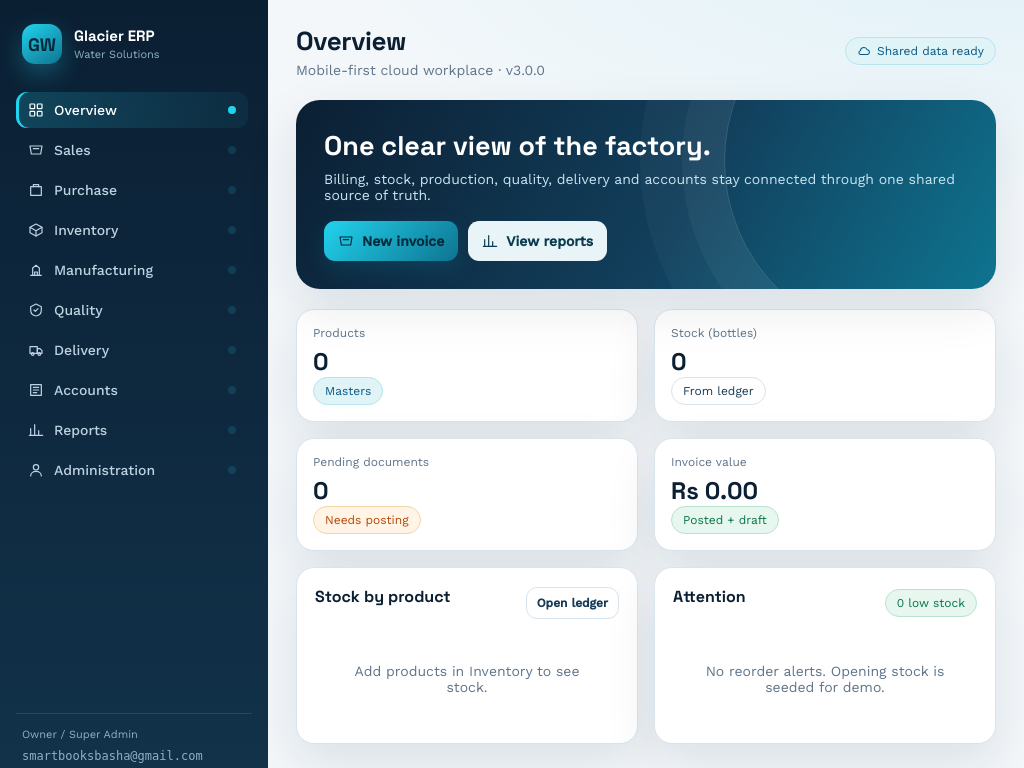
Scenario: ERP UI smoke › navigates Sales -> Invoices and opens the add form
Click the button "Sales" at [132, 150], box [16, 132, 248, 168]
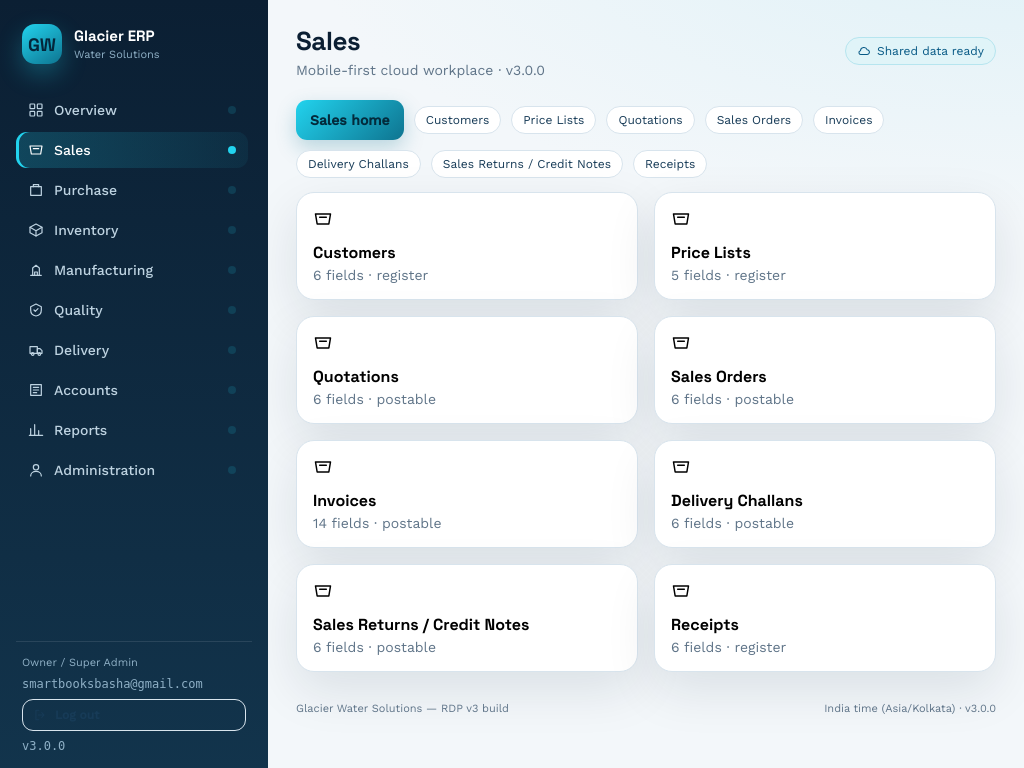
Expected: the text "Invoices" is shown
Click the button with class "chip" showing "Invoices" at [849, 120], box [813, 106, 884, 134]
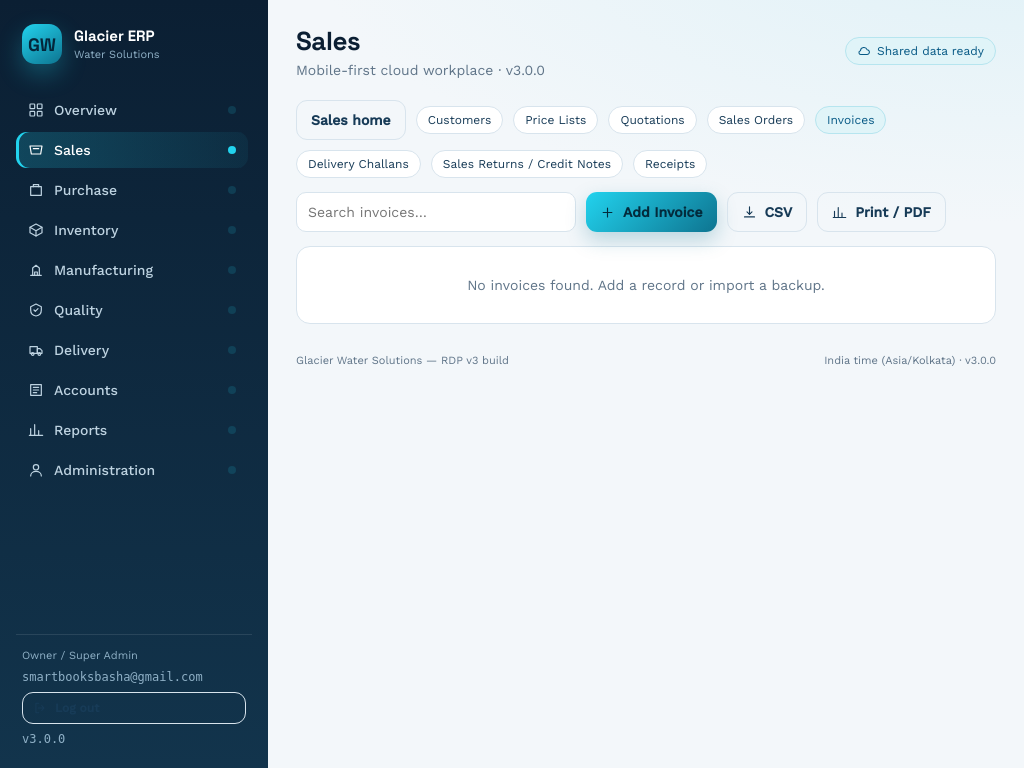
Expected: the text "Add Invoice" is shown
Click the button "Add Invoice" at [651, 212], box [586, 192, 716, 232]
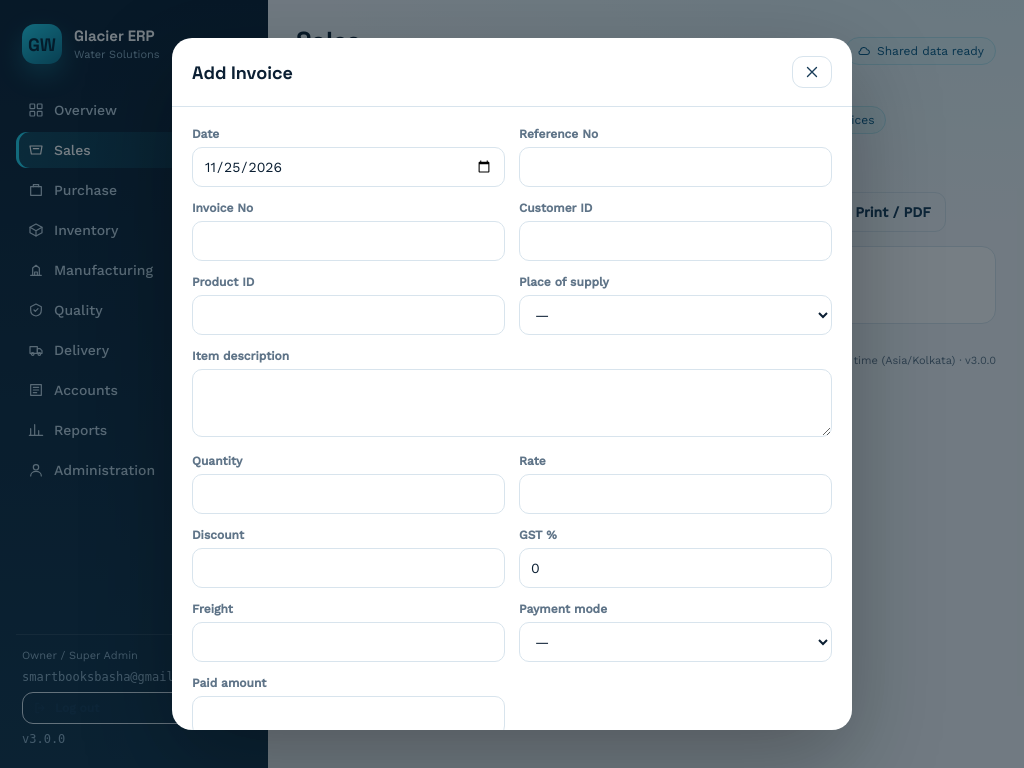
Expected: the element with class "modal" is shown, [172, 38, 852, 730]
Expected: the text "Invoice No" is shown, [192, 201, 253, 215]
